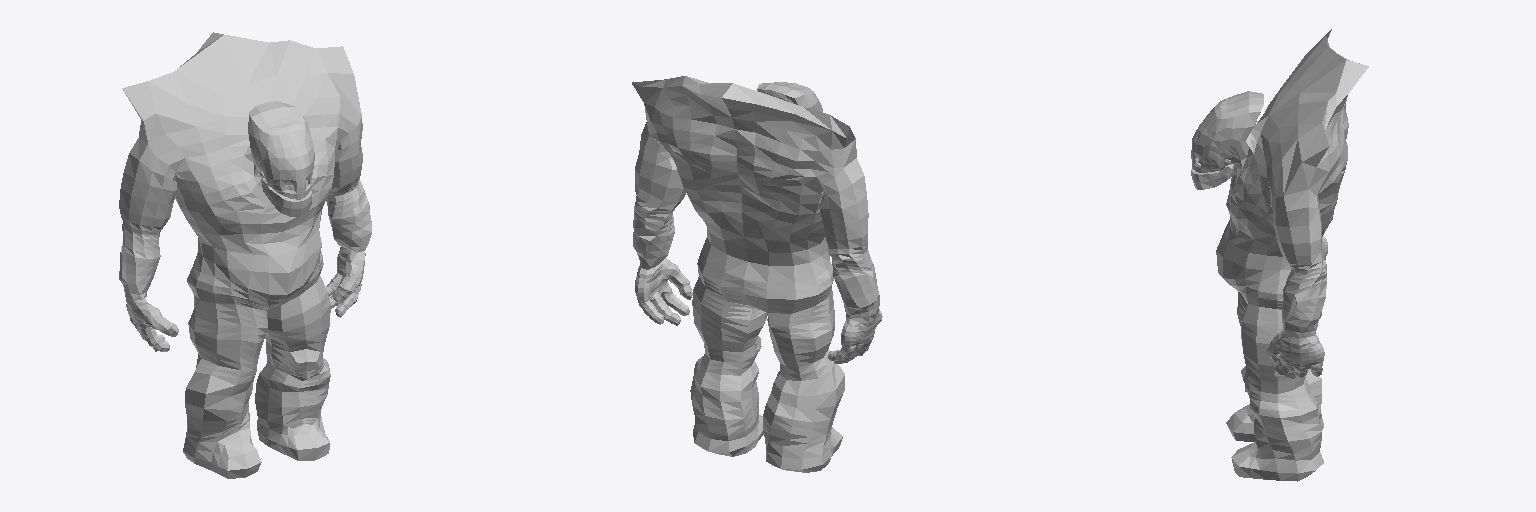
Rendered from golem_000004.obj.
3 views of the same model, side by side, from view 1: azimuth 30°, elevation 25°; view 2: azimuth 150°, elevation 25°; view 3: azimuth 270°, elevation 25° (orthographic).
Parts seen in each view (by area): view 1: golem; view 2: golem; view 3: golem.
Boxes of the visible parts, x1=… form: golem: x1=119, y1=32, x2=371, y2=478; golem: x1=632, y1=76, x2=882, y2=472; golem: x1=1191, y1=29, x2=1368, y2=481.
Size of the model in its own units: 7.35 by 11.27 by 4.64.